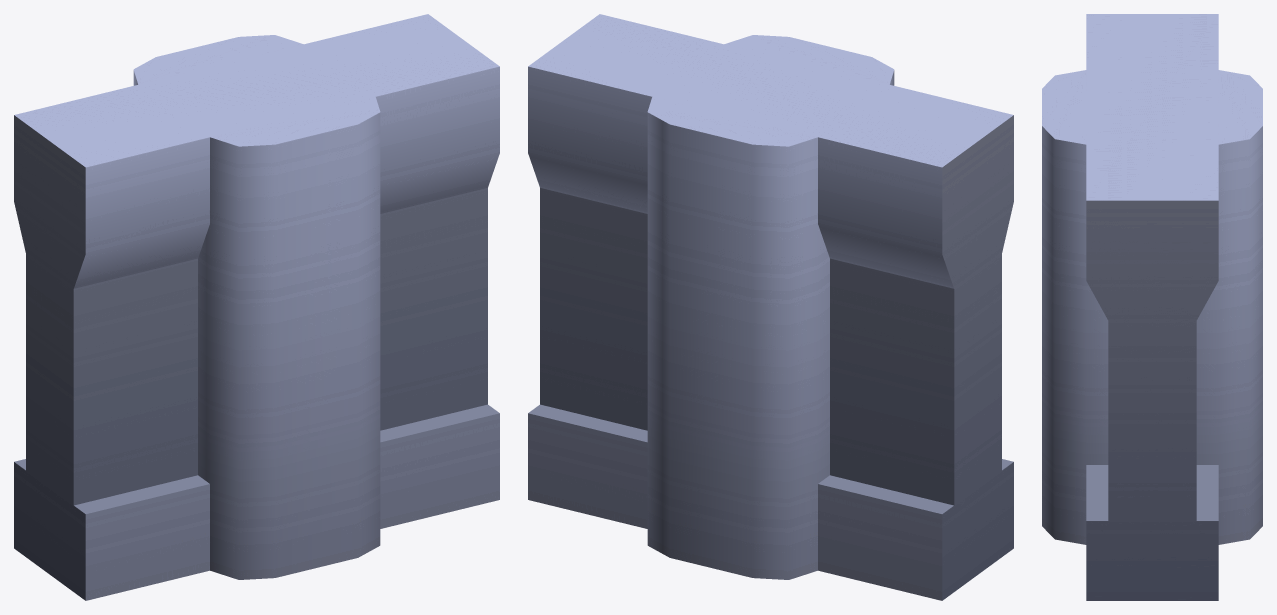
File: prop_pillar.glb
The picture shows the model from 3 angles, left to right: view 1: azimuth 30°, elevation 25°; view 2: azimuth 150°, elevation 25°; view 3: azimuth 270°, elevation 25°; orthographic projection. The views are drawn at different scales.
Visible parts, largest first — view 1: wall-pillar; view 2: wall-pillar; view 3: wall-pillar.
Part boxes in pixels (x1=…): wall-pillar: x1=14, y1=14, x2=499, y2=600; wall-pillar: x1=528, y1=14, x2=1013, y2=600; wall-pillar: x1=1042, y1=14, x2=1262, y2=600.
Bounding box in the file's own units: 1 × 1 × 0.5.
1 material, 1 textured.
